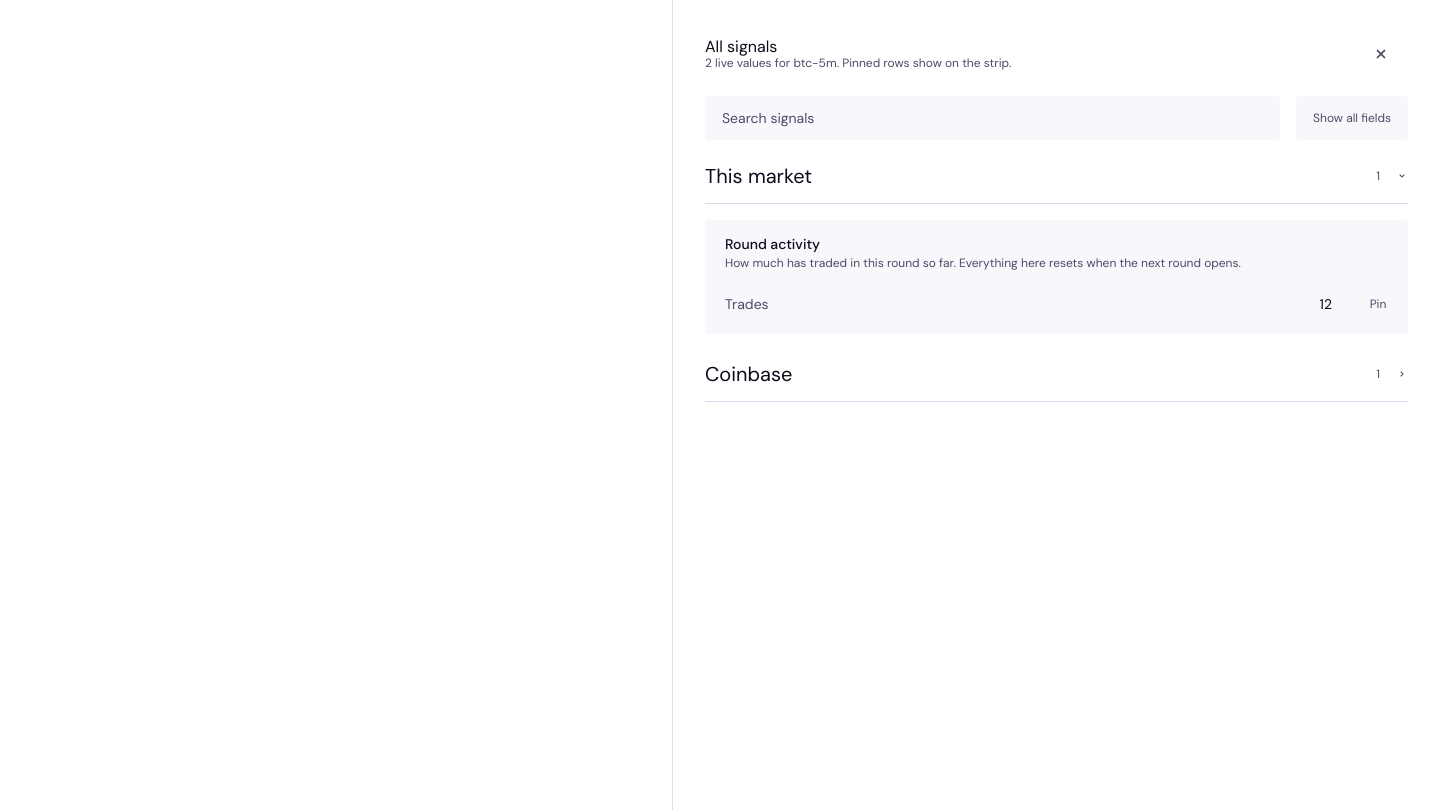
Test: SignalsBrowser › reveals the hidden plumbing fields with Show all fields
Click the button "Show all fields": coordinates (1352, 118) x1=1296 y1=96 x2=1408 y2=140
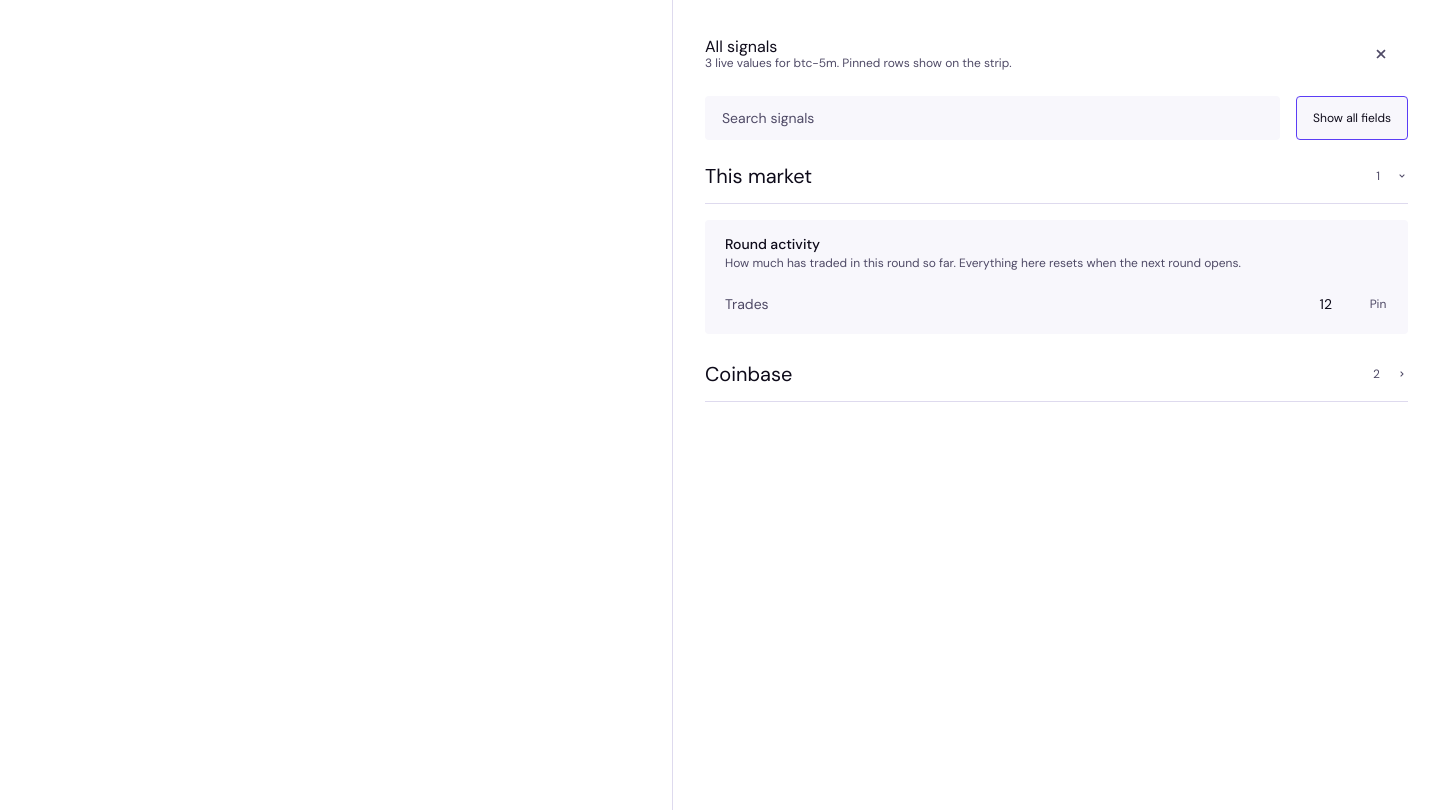
Check: the text "3 live values for btc-5m. Pinned rows show on the strip." is shown, box x1=705 y1=56 x2=1012 y2=70
